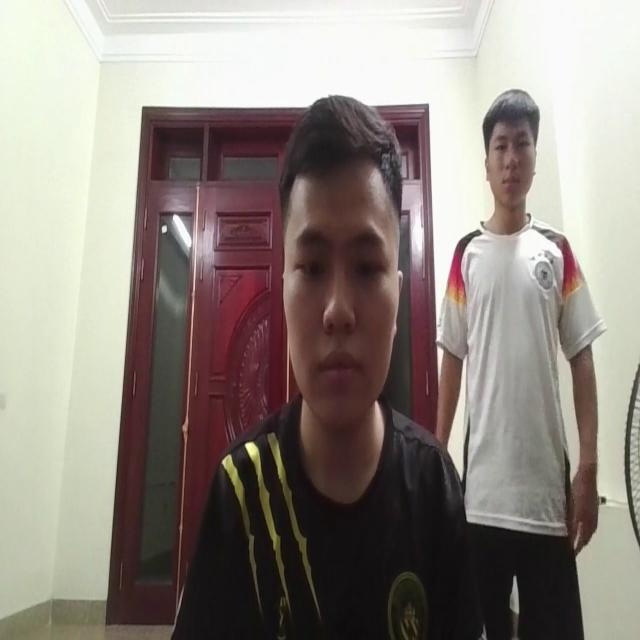extra_person: (430, 88, 601, 640)
student: (216, 92, 452, 640)
